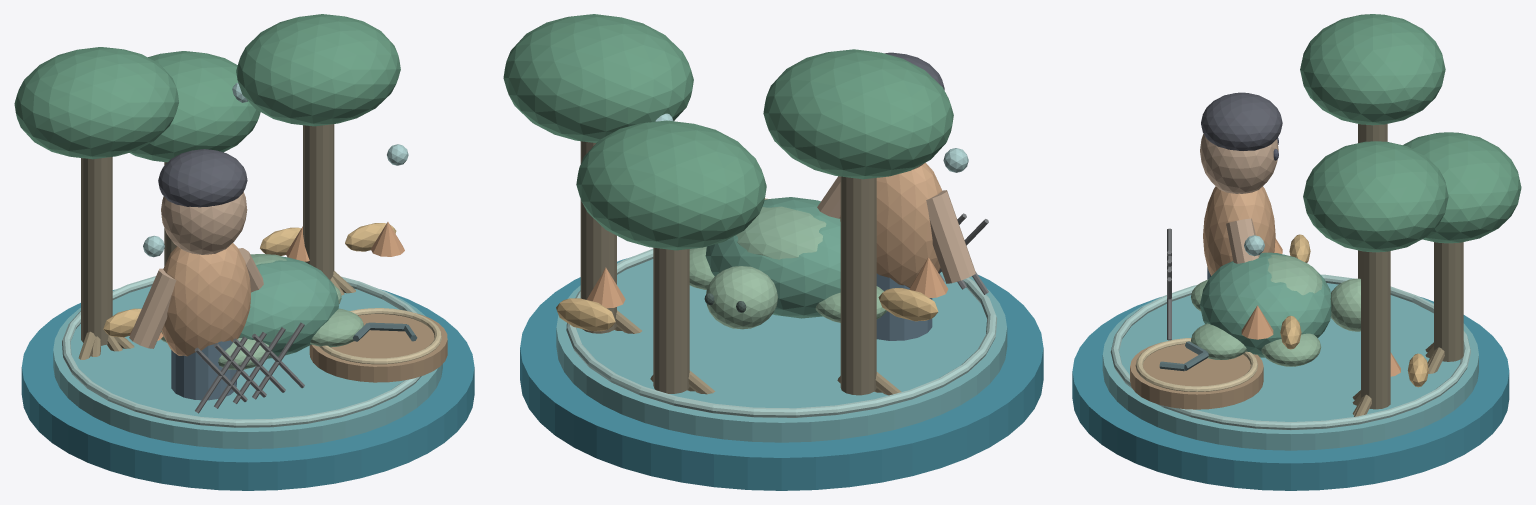
Rendered from the-map-beneath-the-mangroves.glb.
The picture shows the model from 3 angles, left to right: view 1: azimuth 30°, elevation 25°; view 2: azimuth 150°, elevation 25°; view 3: azimuth 270°, elevation 25°; orthographic projection. The views are drawn at different scales.
Visible parts, largest first — view 1: blue water foundation, shallow lagoon, mangrove canopy 0, mangrove canopy 1, mangrove canopy 2, Naya torso, turtle shell, mangrove trunk 0, wooden map disc, lagoon ripple, mangrove trunk 1, Naya hair (+10 smaller); view 2: shallow lagoon, blue water foundation, mangrove canopy 2, mangrove canopy 0, mangrove canopy 1, mangrove trunk 0, turtle shell, Naya torso, lagoon ripple, mangrove trunk 2, turtle head, turtle shell center (+10 smaller); view 3: shallow lagoon, blue water foundation, mangrove canopy 1, mangrove canopy 0, mangrove canopy 2, turtle shell, wooden map disc, lagoon ripple, mangrove trunk 1, Naya hair, Naya torso, mangrove trunk 2 (+11 smaller).
Boxes of the visible parts, x1=… form: blue water foundation: x1=21, y1=289, x2=474, y2=490; shallow lagoon: x1=53, y1=286, x2=442, y2=449; mangrove canopy 0: x1=14, y1=47, x2=178, y2=159; mangrove canopy 1: x1=236, y1=14, x2=400, y2=126; mangrove canopy 2: x1=129, y1=51, x2=260, y2=162; Naya torso: x1=162, y1=243, x2=250, y2=356; turtle shell: x1=239, y1=256, x2=338, y2=358; mangrove trunk 0: x1=81, y1=157, x2=112, y2=345; wooden map disc: x1=309, y1=313, x2=447, y2=382; lagoon ripple: x1=62, y1=276, x2=421, y2=427; mangrove trunk 1: x1=303, y1=124, x2=334, y2=279; Naya hair: x1=158, y1=149, x2=247, y2=207; shallow lagoon: x1=556, y1=256, x2=1007, y2=442; blue water foundation: x1=520, y1=258, x2=1043, y2=490; mangrove canopy 2: x1=576, y1=120, x2=766, y2=250; mangrove canopy 0: x1=763, y1=49, x2=953, y2=179; mangrove canopy 1: x1=503, y1=14, x2=693, y2=142; mangrove trunk 0: x1=840, y1=176, x2=876, y2=395; turtle shell: x1=705, y1=197, x2=840, y2=318; Naya torso: x1=840, y1=162, x2=942, y2=287; lagoon ripple: x1=566, y1=248, x2=997, y2=417; mangrove trunk 2: x1=653, y1=247, x2=689, y2=393; turtle head: x1=706, y1=266, x2=777, y2=329; turtle shell center: x1=736, y1=206, x2=826, y2=259; shallow lagoon: x1=1102, y1=283, x2=1478, y2=450; blue water foundation: x1=1072, y1=297, x2=1509, y2=490; mangrove canopy 1: x1=1303, y1=141, x2=1448, y2=252; mangrove canopy 0: x1=1300, y1=14, x2=1445, y2=125; mangrove canopy 2: x1=1403, y1=132, x2=1521, y2=243; turtle shell: x1=1200, y1=252, x2=1331, y2=357; wooden map disc: x1=1130, y1=342, x2=1263, y2=409; lagoon ripple: x1=1110, y1=274, x2=1470, y2=430; mangrove trunk 1: x1=1361, y1=251, x2=1390, y2=409; Naya hair: x1=1201, y1=92, x2=1282, y2=150; Naya torso: x1=1203, y1=186, x2=1275, y2=275; mangrove trunk 2: x1=1434, y1=242, x2=1463, y2=361.
Bounding box in the file's own units: 0.7488 × 0.6084 × 0.7696.
